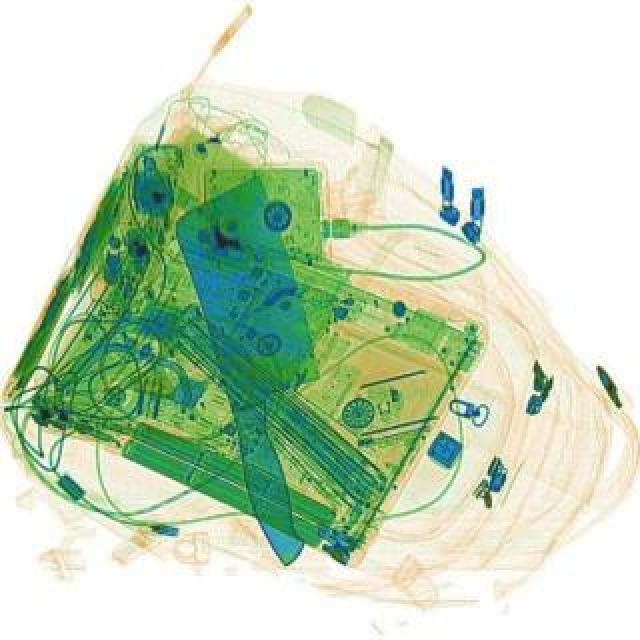knife: (162, 172, 370, 566)
